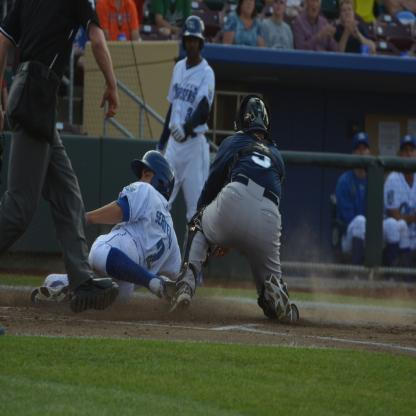Helmet: (134, 151, 174, 203), (236, 95, 270, 136), (180, 14, 204, 64)
